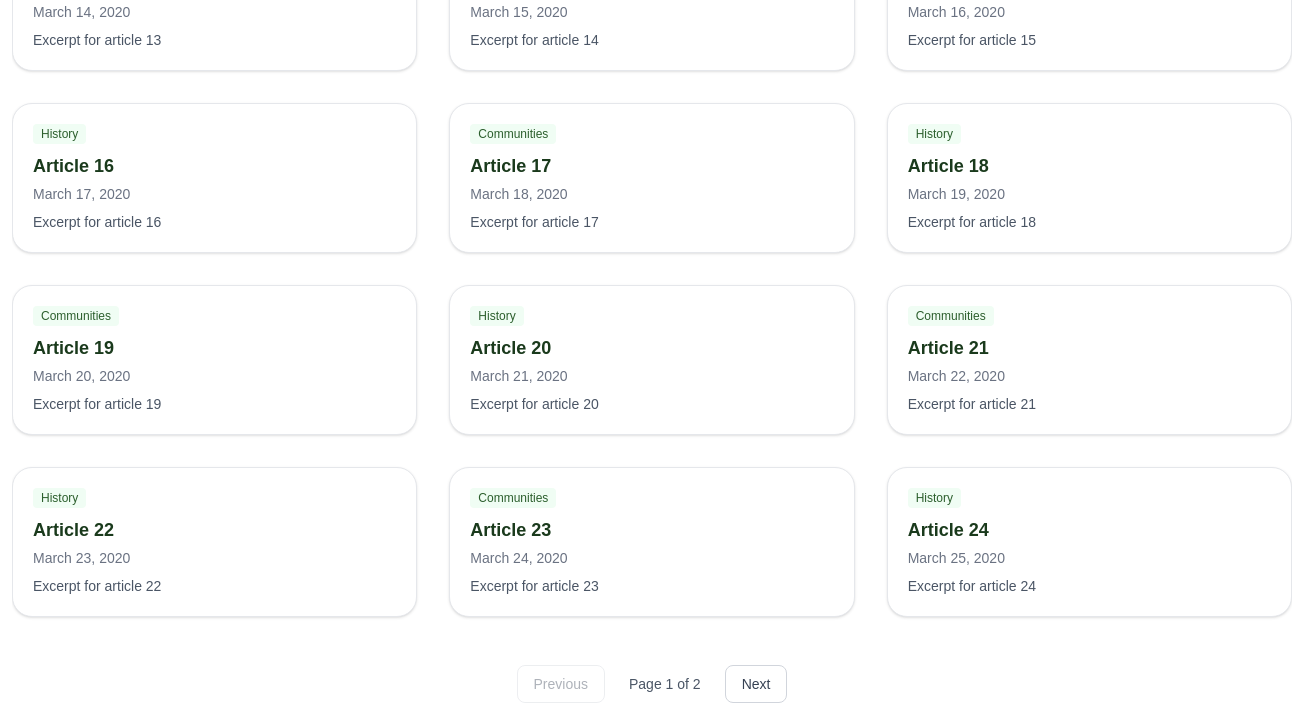
Scenario: ArticlesList › paginates at 24 per page and resets to page 1 when filters change
(page scrolled)
Expected: the text "Page 1 of 2" is shown, [629,676,701,692]
Expected: the button "Previous" is disabled, [516,665,605,702]
Click the button "Next": (756, 684) [725,665,788,702]
(page scrolled)
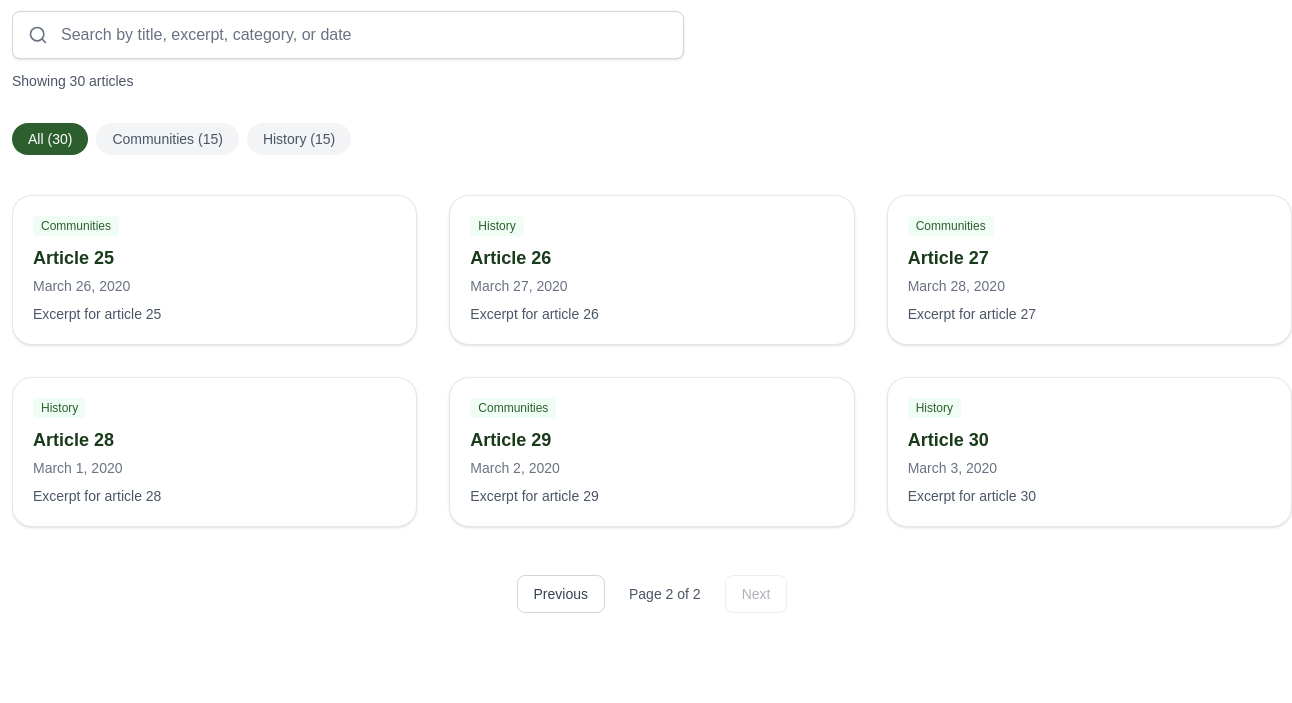
Expected: the text "Page 2 of 2" is shown, [629,586,701,602]
Expected: the button "Next" is disabled, [725,575,788,613]
// Changing a filter resets pagination
In the search field labelled "Search articles": (348, 35) [12,11,684,59], type "article"
(page scrolled)
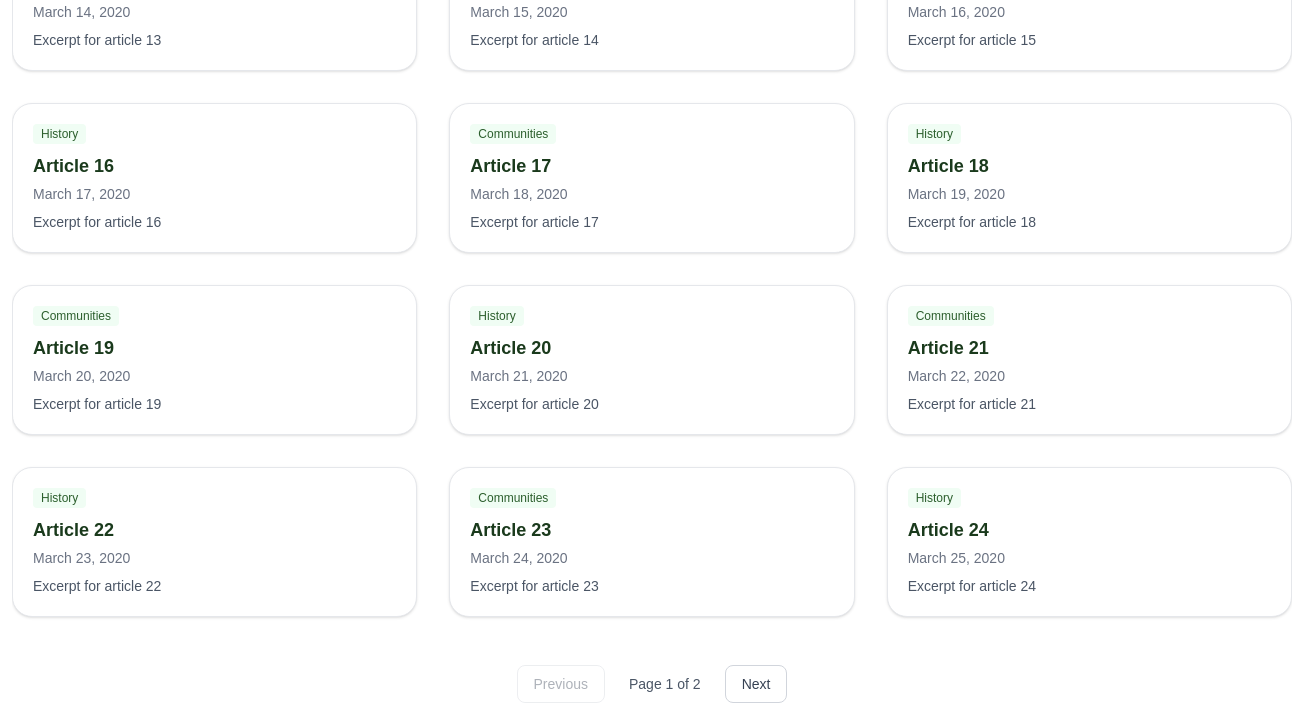
Expected: the text "Page 1 of 2" is shown, [629,676,701,692]
